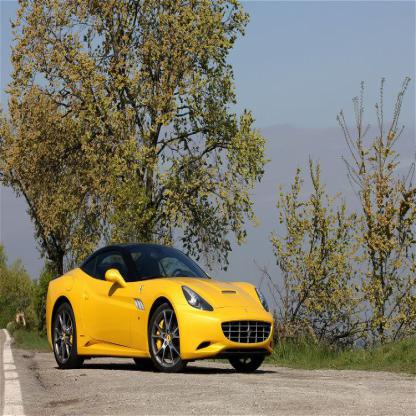Vehicle: (47, 242, 274, 377)
